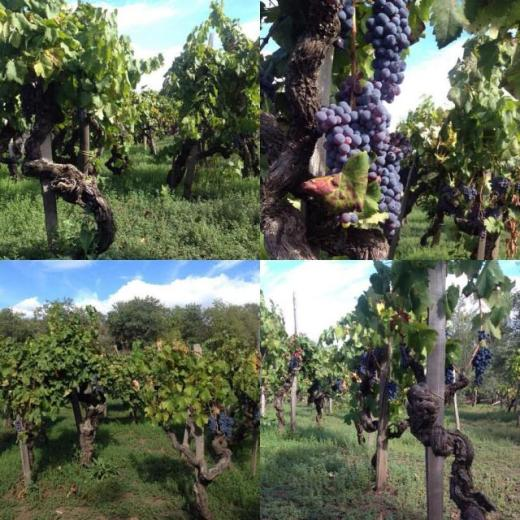Orange: (312, 0, 413, 236), (472, 331, 494, 385), (218, 412, 236, 440), (492, 179, 514, 190), (357, 351, 368, 372), (463, 186, 477, 202), (91, 379, 104, 395), (446, 359, 454, 382), (388, 384, 399, 399), (374, 346, 386, 359), (370, 373, 378, 388), (209, 416, 214, 434)
